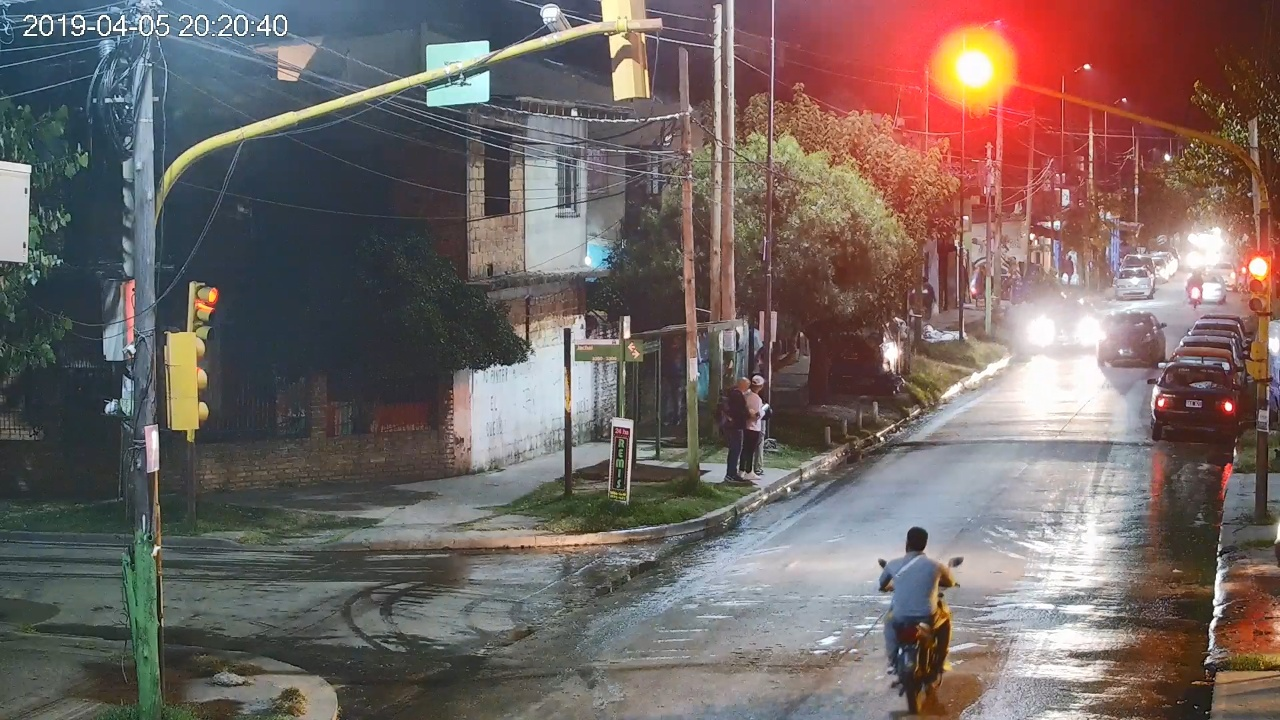motorcycle: (878, 555, 964, 720)
traffic light: (968, 50, 990, 119), (1248, 256, 1270, 314)
